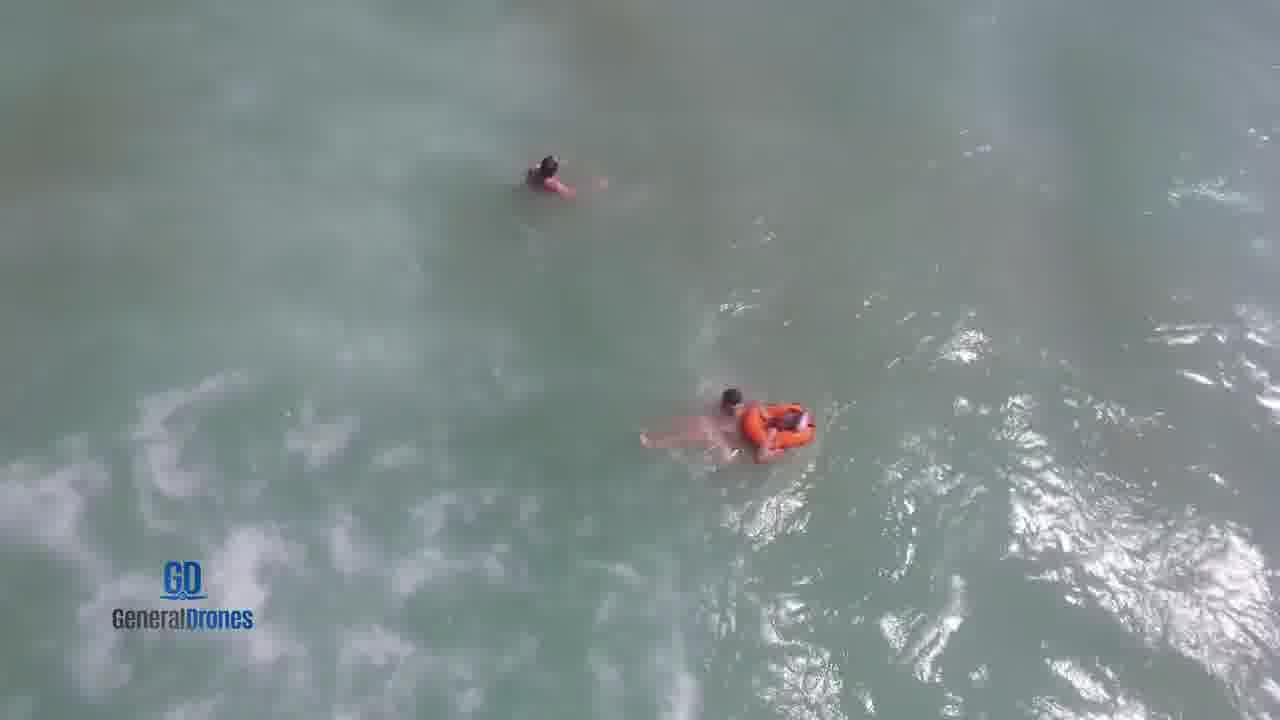swimmer: (631, 410, 817, 461), (513, 148, 575, 196), (705, 382, 770, 414)
